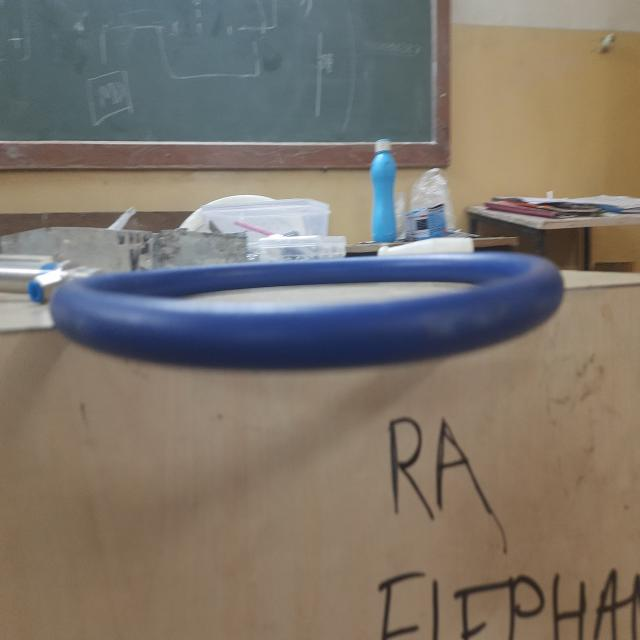daire: (54, 252, 561, 368)
